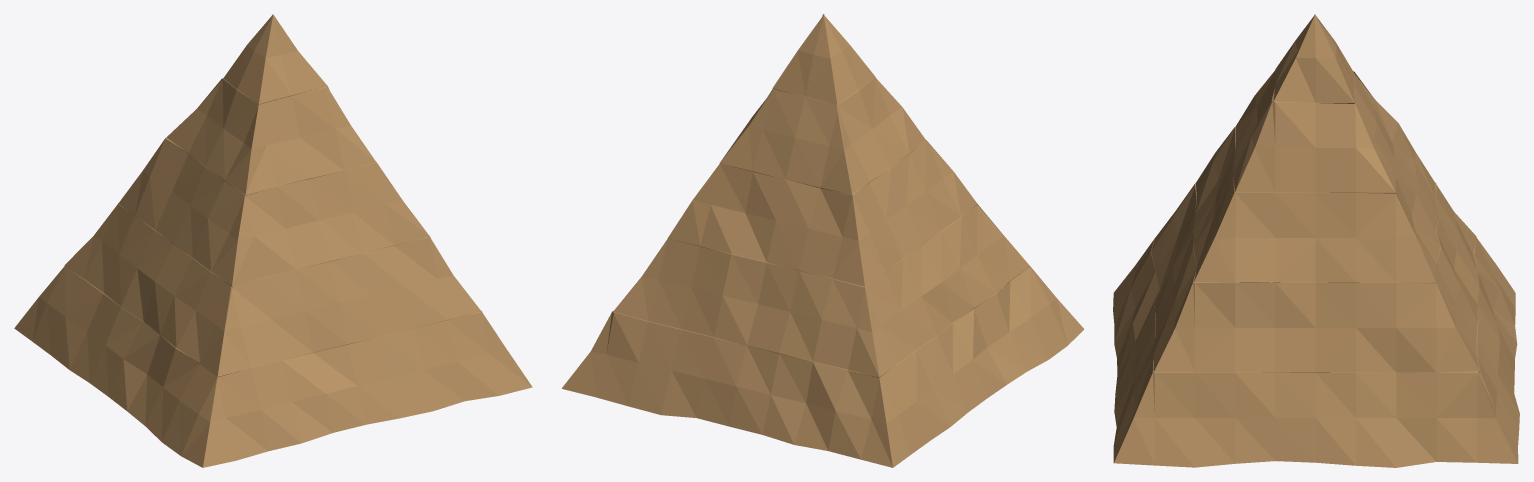
Rendered from pyramide.fbx.
3 views of the same model, side by side, from view 1: azimuth 30°, elevation 25°; view 2: azimuth 150°, elevation 25°; view 3: azimuth 270°, elevation 25° (orthographic). The views are drawn at different scales.
Parts seen in each view (by area): view 1: Pyramide; view 2: Pyramide; view 3: Pyramide.
Boxes of the visible parts, x1=… form: Pyramide: x1=14, y1=14, x2=532, y2=467; Pyramide: x1=562, y1=14, x2=1084, y2=467; Pyramide: x1=1113, y1=14, x2=1519, y2=467.
Bounding box in the file's own units: 409 × 405 × 404.
